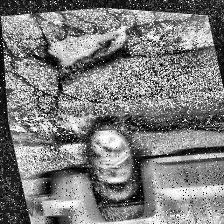pothole: (31, 12, 146, 96)
